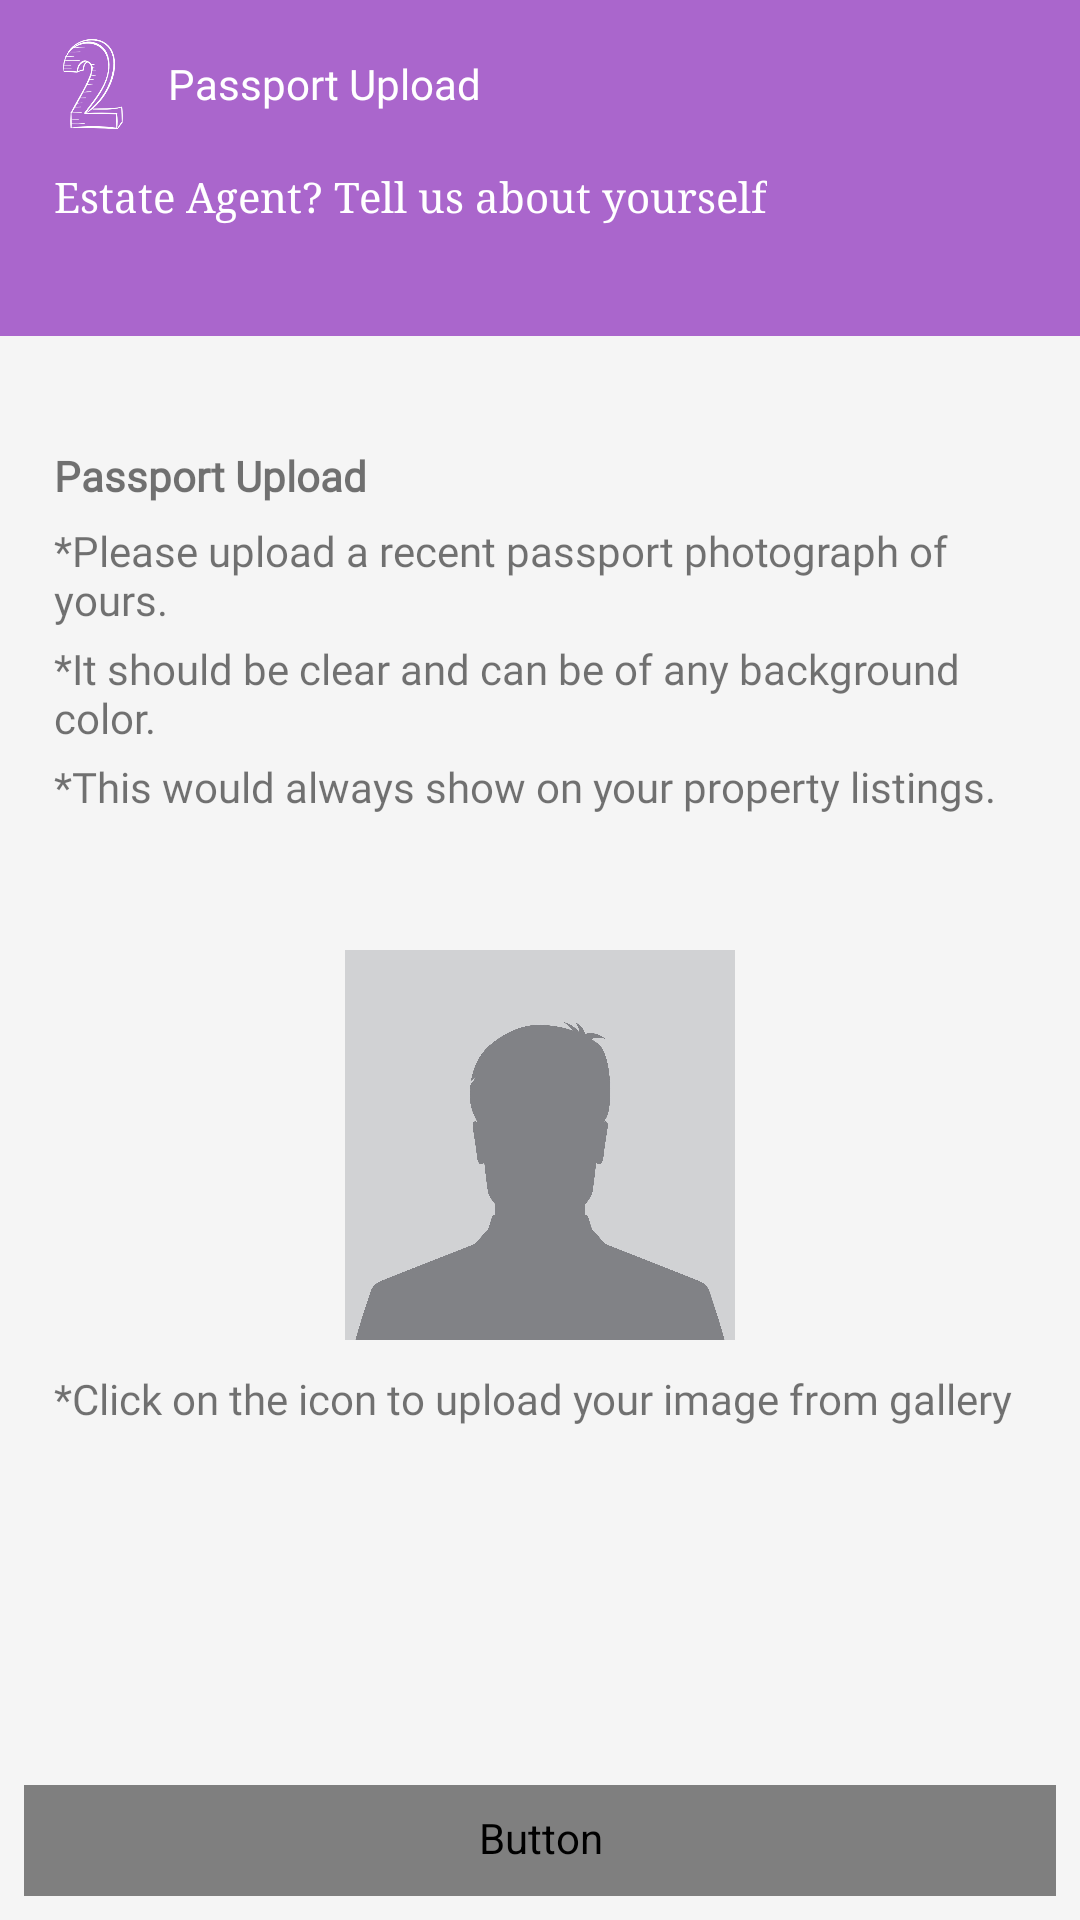

Icons on this 1080x1920 Android screen, each with the point to tap as (x,y):
Number Two: (93,84)
